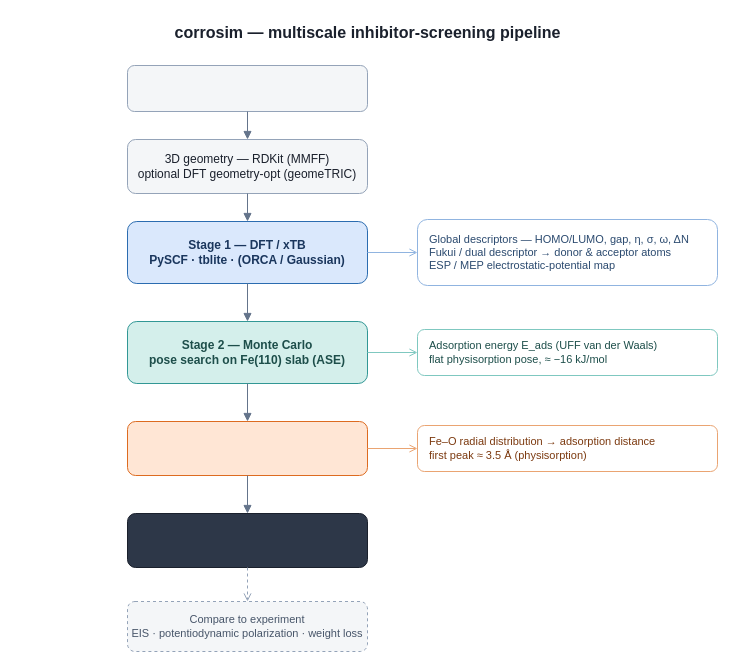
Image size: 735x669. Some labels were removed from this diagram. The shapes that lost their labels are listed below. From the top down, each one's box as (x1, y1, x2, y2) in pixels, then its label:
(126, 64, 368, 112): Inhibitor name / SMILES
(126, 420, 368, 476): Stage 3 — Brownian molecular dynamics
(126, 512, 368, 568): Self-contained HTML report ranking + all figures inlined
